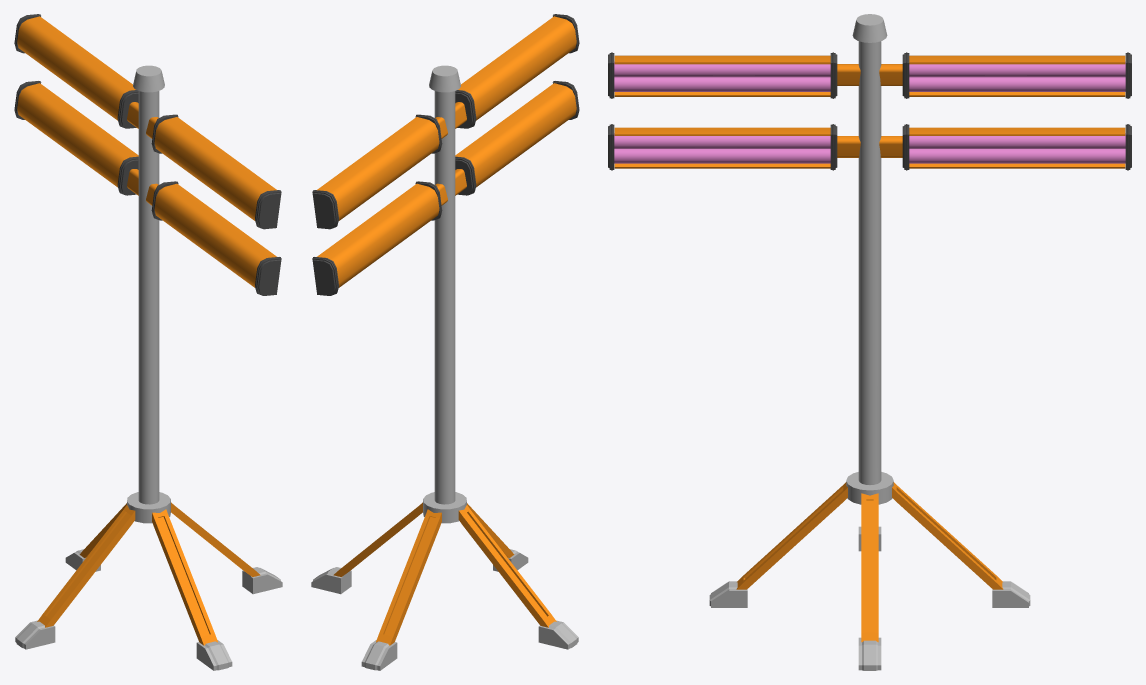
File: Lamp02.fbx
3 renders of one model, left to right at view 1: azimuth 30°, elevation 25°; view 2: azimuth 150°, elevation 25°; view 3: azimuth 270°, elevation 25°, orthographic. The views are drawn at different scales.
Visible parts, largest first — view 1: SM_Lamp02; view 2: SM_Lamp02; view 3: SM_Lamp02.
Boxes of the visible parts, x1,y1,x2,y2 form: SM_Lamp02: (14, 14, 282, 670); SM_Lamp02: (311, 14, 579, 670); SM_Lamp02: (608, 14, 1131, 670).
Size of the model in its own units: 102 by 205 by 167.
